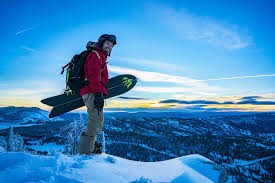snowboard: (40, 73, 138, 120)
